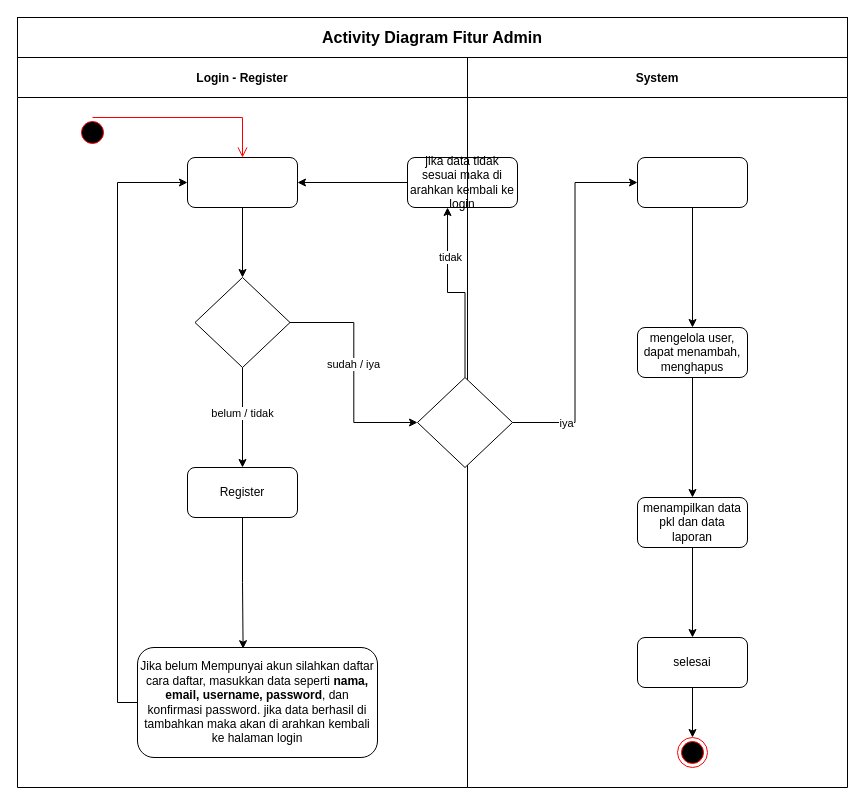
Image size: 865x805. Some labels were removed from this diagram. Here are the shapes that lost their labels. From the top down, the centre of each, then its label:
(x=242, y=182): halaman login
(x=692, y=182): halaman utama admin
(x=242, y=322): sudah punya akun?
(x=464, y=422): mendeteksi data akun
